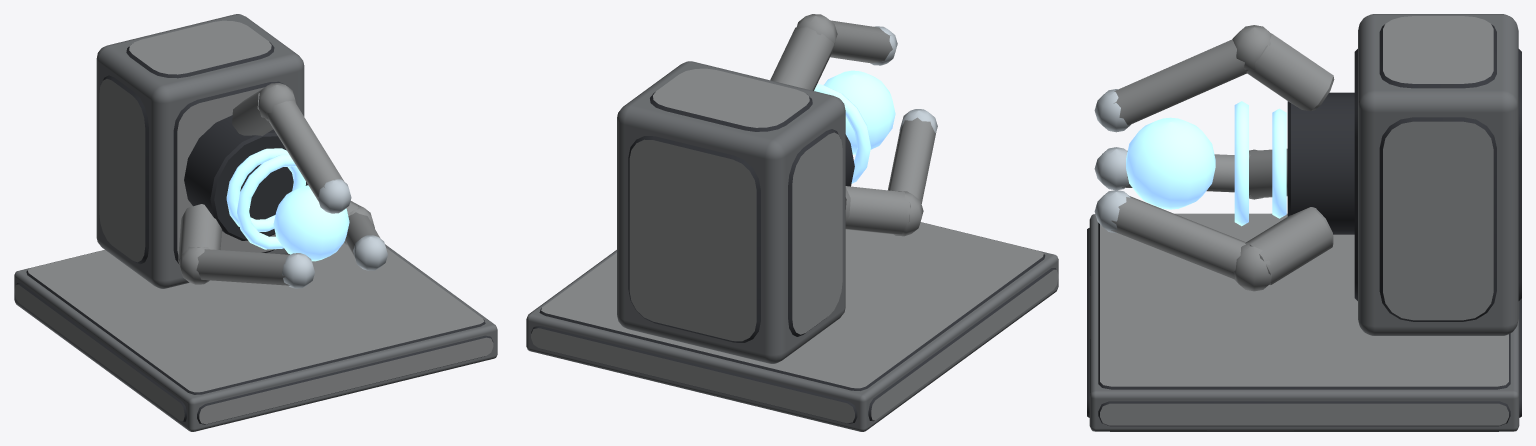
Rendered from R4X_DirectionalEMP.glb.
3 views of the same model, side by side, from view 1: azimuth 30°, elevation 25°; view 2: azimuth 150°, elevation 25°; view 3: azimuth 270°, elevation 25° (orthographic). The views are drawn at different scales.
Visible parts, largest first — view 1: R4X_DirectionalEMP_Body; view 2: R4X_DirectionalEMP_Body; view 3: R4X_DirectionalEMP_Body.
Boxes of the visible parts, left/top/right/bottom form: R4X_DirectionalEMP_Body: left=14, top=14, right=497, bottom=431; R4X_DirectionalEMP_Body: left=526, top=14, right=1058, bottom=431; R4X_DirectionalEMP_Body: left=1087, top=14, right=1521, bottom=431.
Size of the model in its own units: 0.52 by 0.42 by 0.52.
